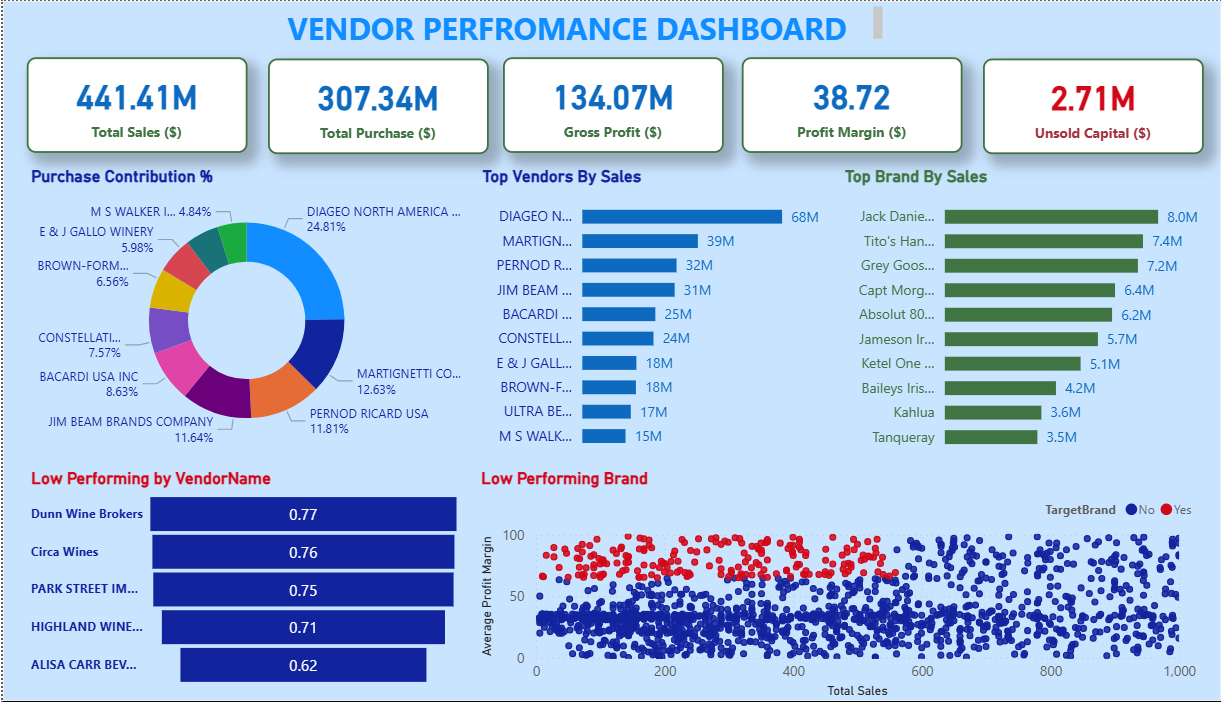

What the dashboard file says about the page in this screenshot:
{"tool":"powerbi","page":{"name":"Page 1","canvas":[1280,720],"ordinal":0},"visuals":[{"type":"textbox","box":[230,0,530,40.8],"z":0},{"type":"shape","box":[0,0,1060,610],"z":1000},{"type":"card","fields":{"Values":["Sum(vendors_sales_summary.TotalSalesDollars)"]},"box":[21,49,192,83],"z":2000},{"type":"card","fields":{"Values":["Sum(vendors_sales_summary.UnsoldCapital)"]},"box":[852,50,192,83],"z":3000},{"type":"card","fields":{"Values":["Sum(vendors_sales_summary.TotalPurchaseDollars)"]},"box":[230,50,192,83],"z":4000},{"type":"card","fields":{"Values":["Avg(vendors_sales_summary.ProfitMargin)"]},"box":[642,49,192,83],"z":5000},{"type":"card","fields":{"Values":["Sum(vendors_sales_summary.GrossProfit)"]},"box":[435,49,192,83],"z":6000},{"type":"textbox","box":[10,151,210,35],"z":7000},{"type":"donutChart","title":"Purchase Contribution %","fields":{"Category":["PurchaseContribution.VendorName"],"Y":["Sum(PurchaseContribution.PurchaseContribution%)"]},"box":[20,143,385,252],"z":8000},{"type":"barChart","title":"Top Vendors By Sales","fields":{"Y":["Sum(vendors_sales_summary.TotalSalesDollars)"],"Category":["vendors_sales_summary.VendorName"]},"box":[412,144,315,255],"z":9000},{"type":"barChart","title":"Top Brand By Sales","fields":{"Y":["Sum(vendors_sales_summary.TotalSalesDollars)"],"Category":["vendors_sales_summary.Description"]},"box":[727,144,317,256],"z":10000},{"type":"funnel","fields":{"Category":["LowTurnoverVendor.VendorName"],"Y":["Sum(LowTurnoverVendor.AvgStockTurnOver)"]},"box":[20,406,385,194],"z":11000},{"type":"scatterChart","title":"Low Performing Brand","fields":{"Category":["BrandPerformance.Description"],"X":["Sum(BrandPerformance.TotalSales)"],"Y":["Sum(BrandPerformance.AvgProfitMargin)"],"Series":["BrandPerformance.TargetBrand"]},"box":[411,406,632,204],"z":12000},{"type":"textbox","box":[242.2,0,527.8,41.1],"z":12001}]}

Visuals, with their boxes in screenshot pixels (x1, y1, x2, y2), scaled from the page's 1280x720 canvas onto the 1221x702 screenshot:
textbox: select_region(219, 0, 725, 40)
shape: select_region(0, 0, 1011, 595)
card - Sum(vendors_sales_summary.TotalSalesDollars): select_region(20, 48, 203, 129)
card - Sum(vendors_sales_summary.UnsoldCapital): select_region(813, 49, 996, 130)
card - Sum(vendors_sales_summary.TotalPurchaseDollars): select_region(219, 49, 403, 130)
card - Avg(vendors_sales_summary.ProfitMargin): select_region(612, 48, 796, 129)
card - Sum(vendors_sales_summary.GrossProfit): select_region(415, 48, 598, 129)
textbox: select_region(10, 147, 210, 181)
"Purchase Contribution %" donutChart: select_region(19, 139, 386, 385)
"Top Vendors By Sales" barChart: select_region(393, 140, 693, 389)
"Top Brand By Sales" barChart: select_region(693, 140, 996, 390)
funnel - LowTurnoverVendor.VendorName x Sum(LowTurnoverVendor.AvgStockTurnOver): select_region(19, 396, 386, 585)
"Low Performing Brand" scatterChart: select_region(392, 396, 995, 595)
textbox: select_region(231, 0, 735, 40)
